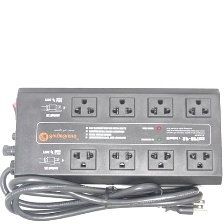three_eye_plug: (7, 84, 223, 188)
